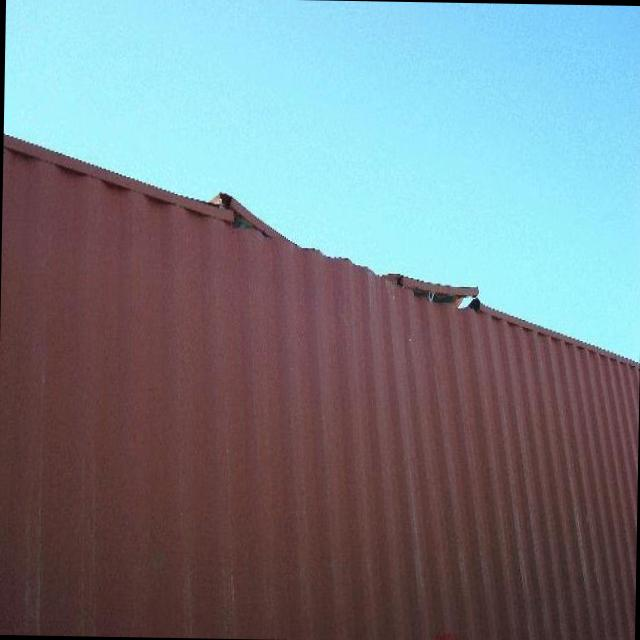Deframe_or_Dent: (106, 168, 503, 345)
